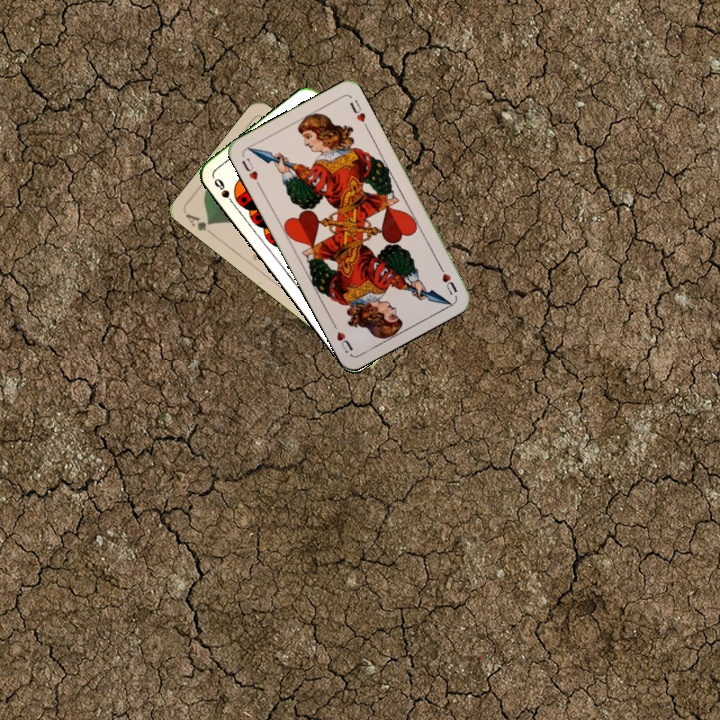GA: (181, 209, 217, 239)
HU: (434, 260, 460, 298), (238, 153, 263, 189)
S9: (210, 174, 241, 209)
